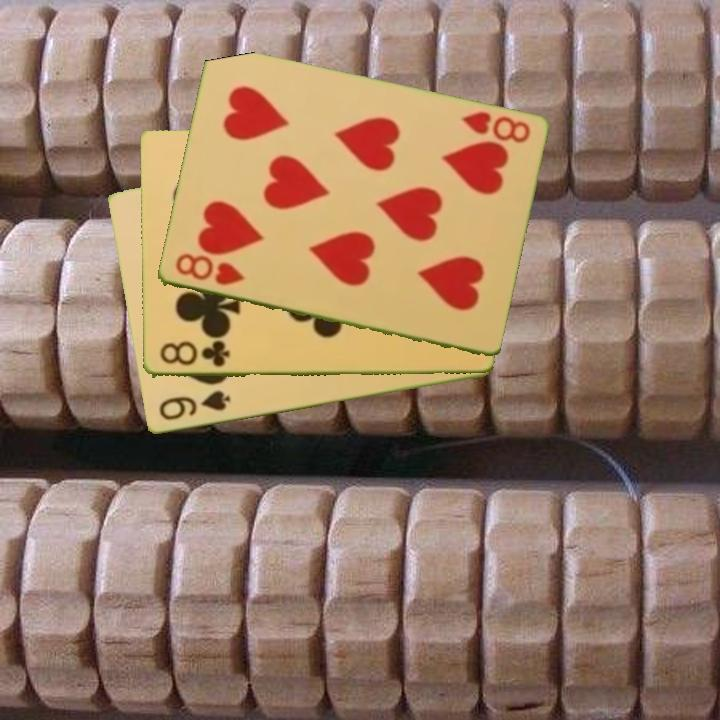8c: (156, 338, 232, 371)
8h: (171, 250, 247, 289), (458, 108, 533, 147)
9s: (155, 387, 233, 424)
